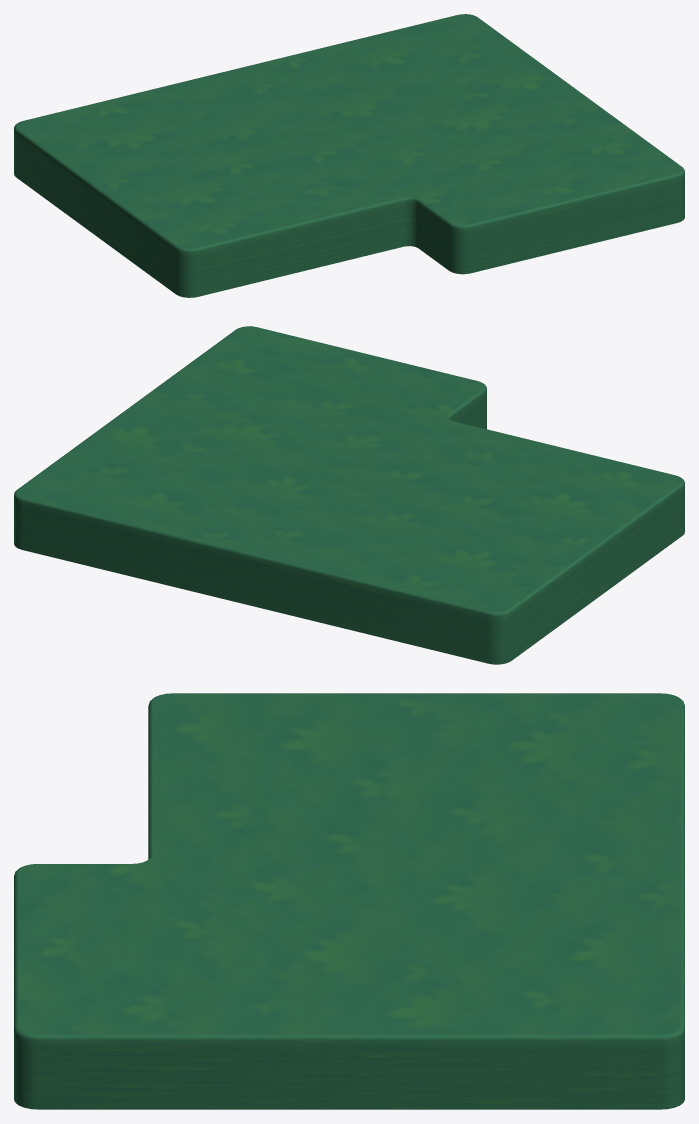
Rendered from Island_2_beveled.glb.
3 renders of one model, top to bottom at view 1: azimuth 30°, elevation 25°; view 2: azimuth 150°, elevation 25°; view 3: azimuth 270°, elevation 25°, orthographic. The views are drawn at different scales.
Parts seen in each view (by area): view 1: geometry_0; view 2: geometry_0; view 3: geometry_0.
Boxes of the visible parts, box(x1,y1,x2,y2) form: geometry_0: box(14, 14, 684, 297); geometry_0: box(14, 326, 684, 664); geometry_0: box(14, 693, 684, 1109).
Size of the model in its own units: 20.2 by 2 by 16.63.
1 material, 1 textured.
